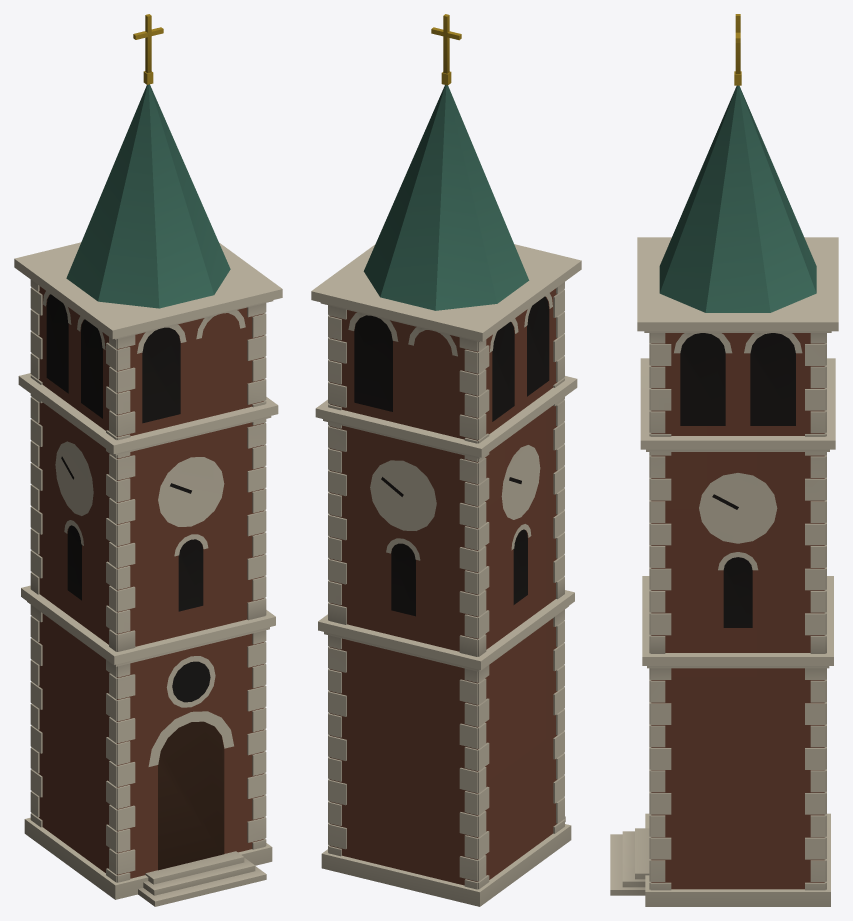
Rendered from iglesia.glb.
3 views of the same model, side by side, from view 1: azimuth 30°, elevation 25°; view 2: azimuth 150°, elevation 25°; view 3: azimuth 270°, elevation 25° (orthographic). The views are drawn at different scales.
Parts seen in each view (by area): view 1: campanario; view 2: campanario; view 3: campanario.
Part boxes in pixels (bbox=[...]): campanario: bbox=[14, 14, 282, 906]; campanario: bbox=[311, 14, 581, 906]; campanario: bbox=[610, 14, 838, 906].
Size of the model in its own units: 4.88 by 22.8 by 5.54.
